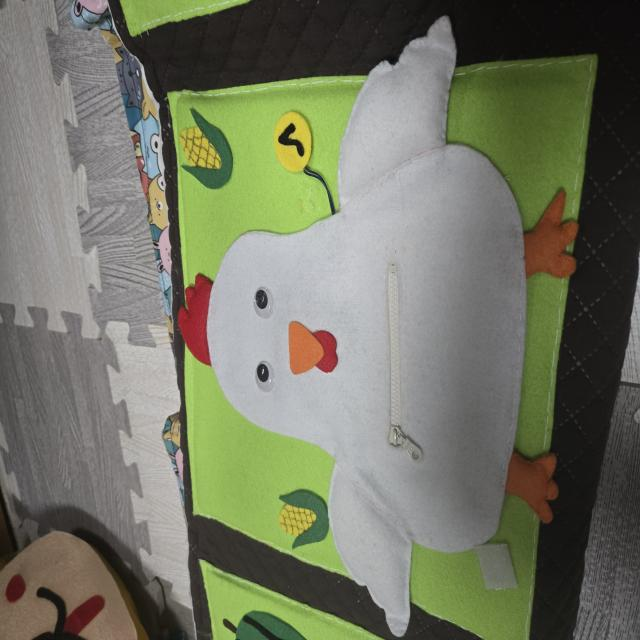zip_body: (386, 263, 406, 448)
zip_head: (391, 423, 422, 465)
